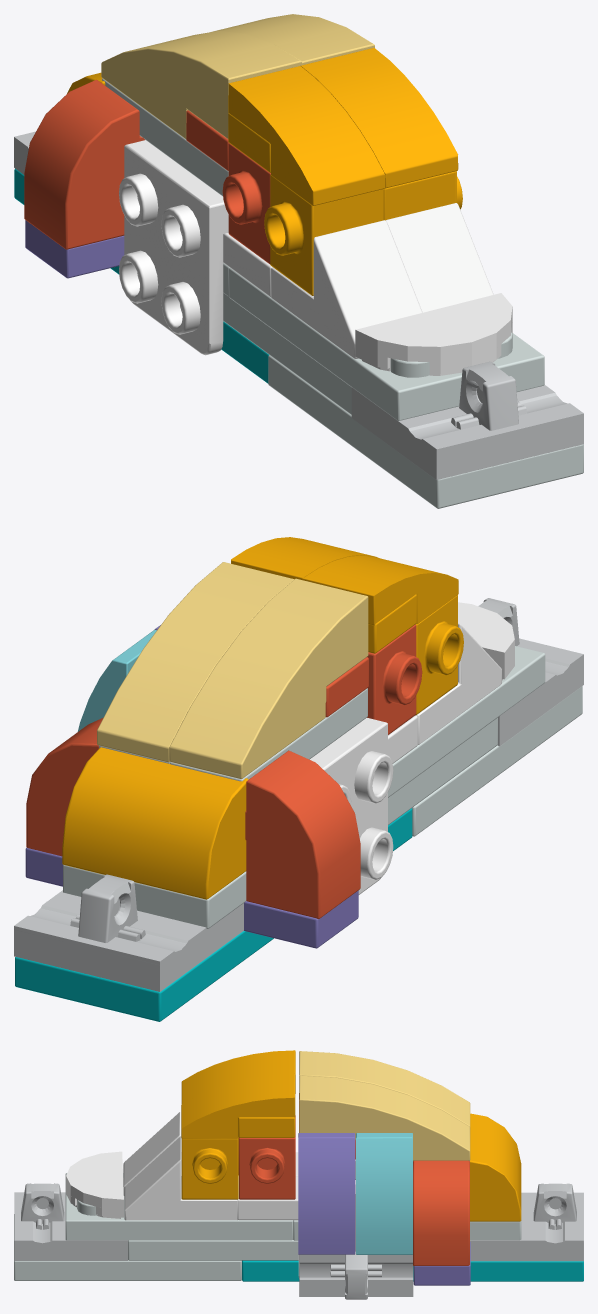
File: Passo24.fbx
3 views of the same model, one above another, from view 1: azimuth 30°, elevation 25°; view 2: azimuth 150°, elevation 25°; view 3: azimuth 270°, elevation 25° (orthographic). The views are drawn at different scales.
Visible parts, largest first — view 1: Bracket__1x2__1_.007, Hinge_plate_2x2__1_.012, Brick_cuved_1x2x1__1_.008, Slope_curved_2x1_1, Slope_curved_3x1__1_.002, Slope_2x1_2__1_.009, Slope_curved_2x1__1__1, Plate_2x4__2_.011, Plate_2x4__1__1.011, Tile_round_1x2.016, Slope_2x1_2.009, Brick_special_1x1__1_.004 (+10 smaller); view 2: Slope_curved_3x1__1_.002, Brick_curved_2x1.010, Brick_cuved_1x2x1__1_.008, Slope_curved_3x1.006, Hinge_plate_2x2_1.001, Plate_2x6.014, Bracket__1x2__1_.007, Slope_curved_2x1_1, Plate_2x4__2_.011, Brick_cuved_1x2x1.008, Plate_2x4__1__1.011, Plate_1x4.013 (+13 smaller); view 3: Slope_curved_3x1.006, Slope_curved_2x1.002, Slope_curved_2x1__1_.002, Brick_cuved_1x2x1.008, Hinge_plate_2x2_1.001, Plate_2x4__2_.011, Slope_curved_2x1__1__1, Hinge_plate_2x2__1_.012, Hinge_plate_2x2.014, Brick_curved_2x1.010, Plate_2x4__1__1.011, Slope_2x1_2.009 (+12 smaller).
Part boxes in pixels (x1,y1,x2,y2): Bracket__1x2__1_.007: (119, 140, 228, 355); Hinge_plate_2x2__1_.012: (351, 361, 583, 479); Brick_cuved_1x2x1__1_.008: (24, 79, 144, 249); Slope_curved_2x1_1: (228, 66, 385, 205); Slope_curved_3x1__1_.002: (101, 31, 301, 138); Slope_2x1_2__1_.009: (271, 220, 422, 358); Slope_curved_2x1__1__1: (301, 48, 458, 188); Plate_2x4__2_.011: (229, 268, 544, 420); Plate_2x4__1__1.011: (268, 355, 583, 508); Tile_round_1x2.016: (355, 293, 512, 375); Slope_2x1_2.009: (386, 203, 493, 312); Brick_special_1x1__1_.004: (264, 174, 383, 295); Slope_curved_3x1__1_.002: (169, 578, 368, 779); Brick_curved_2x1.010: (62, 747, 248, 899); Brick_cuved_1x2x1__1_.008: (245, 750, 360, 919); Slope_curved_3x1.006: (97, 562, 294, 762); Hinge_plate_2x2_1.001: (14, 874, 243, 991); Plate_2x6.014: (15, 808, 412, 1021); Bracket__1x2__1_.007: (309, 718, 393, 894); Slope_curved_2x1_1: (302, 555, 458, 625); Plate_2x4__2_.011: (388, 646, 545, 797); Brick_cuved_1x2x1.008: (26, 718, 102, 856); Plate_2x4__1__1.011: (412, 686, 582, 836); Plate_1x4.013: (25, 847, 358, 948); Slope_curved_3x1.006: (299, 1075, 470, 1160); Slope_curved_2x1.002: (298, 1133, 355, 1254); Slope_curved_2x1__1_.002: (356, 1133, 412, 1254); Brick_cuved_1x2x1.008: (413, 1160, 469, 1265); Hinge_plate_2x2_1.001: (470, 1183, 583, 1261); Plate_2x4__2_.011: (65, 1173, 293, 1240); Slope_curved_2x1__1__1: (181, 1073, 295, 1138); Hinge_plate_2x2__1_.012: (14, 1183, 127, 1260); Hinge_plate_2x2.014: (299, 1184, 413, 1299); Brick_curved_2x1.010: (470, 1113, 521, 1221); Plate_2x4__1__1.011: (14, 1214, 241, 1280); Slope_2x1_2.009: (124, 1136, 237, 1220).
Bounding box in the file's own units: 0.3333 × 0.2876 × 0.8002.
